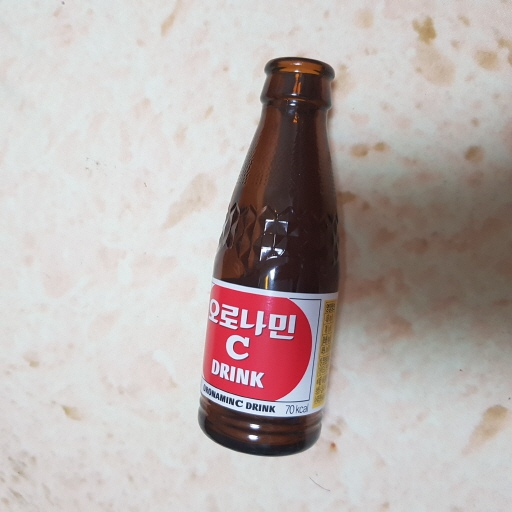Glass_3: (194, 57, 350, 462)
